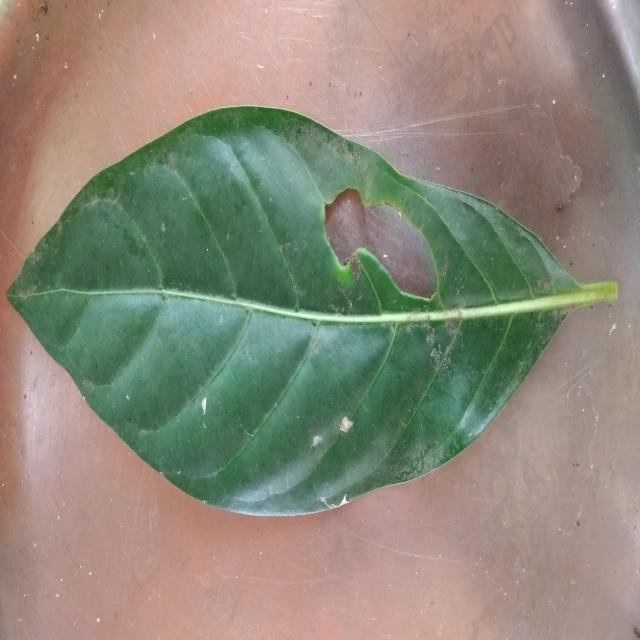anthracnosenooni: (8, 107, 618, 513)
